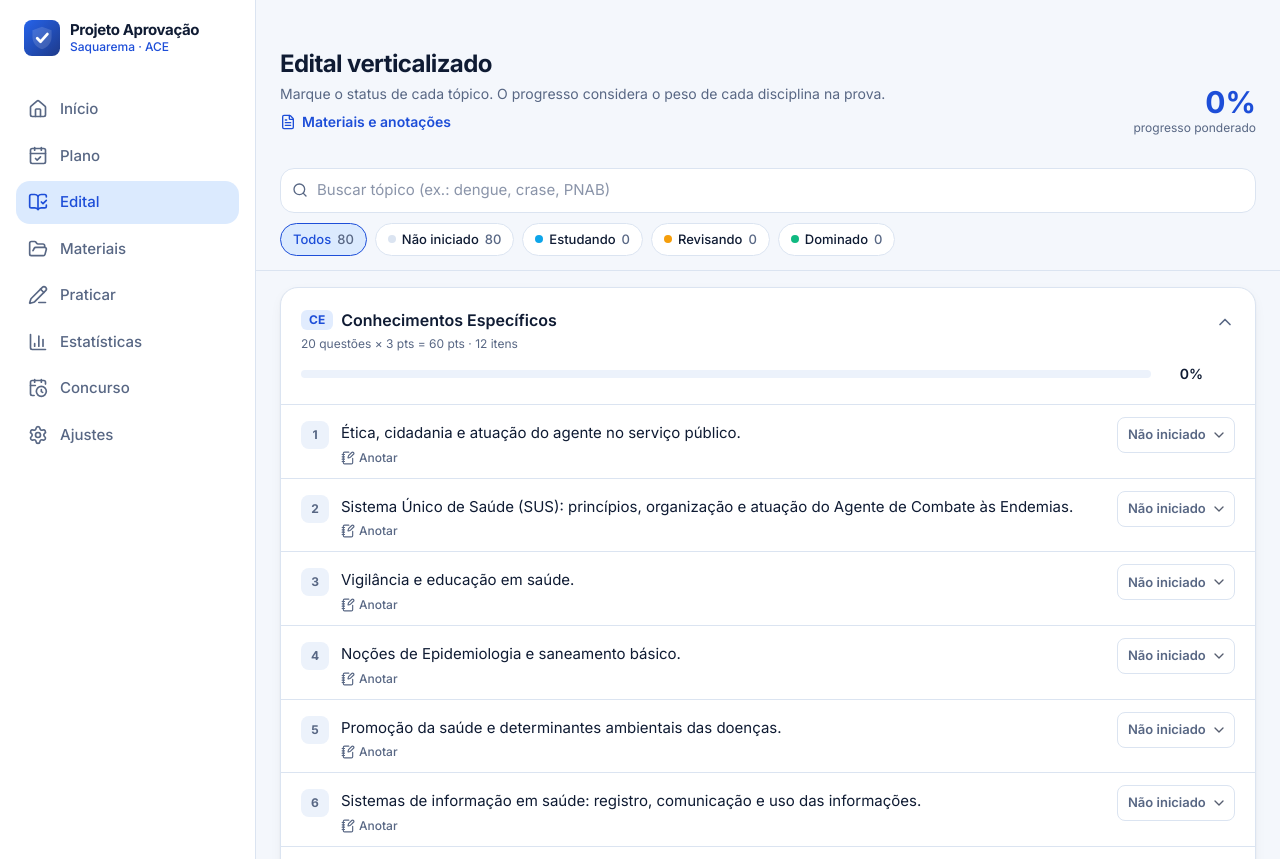
Test: edital verticalizado › busca ignora acentos
The width and height of the screenshot is (1280, 859).
Type "colera" into the search field labelled "Buscar tópico". click: (768, 190)
box: [280,168,1256,212]
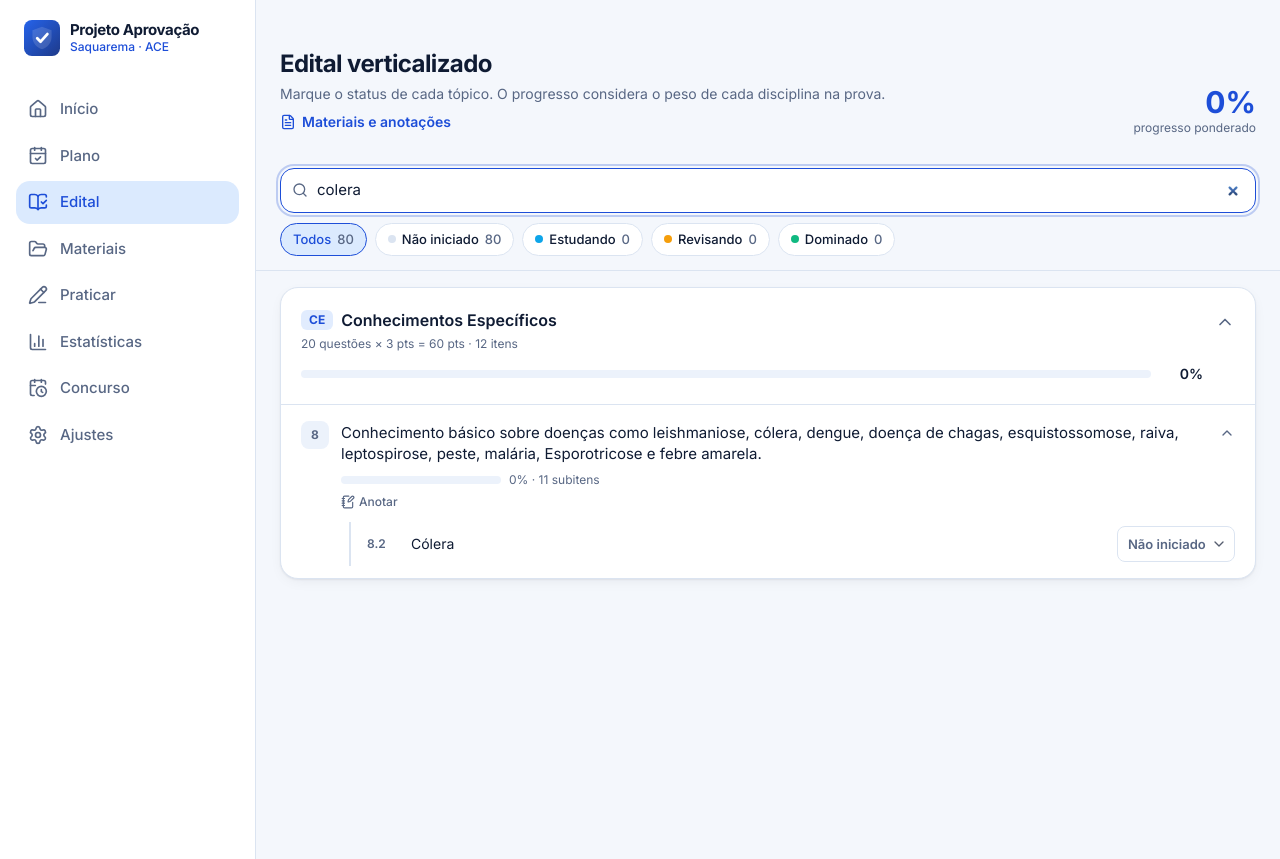
Expected: the dropdown named "Status: Cólera" is shown, [1117,526,1235,562]
